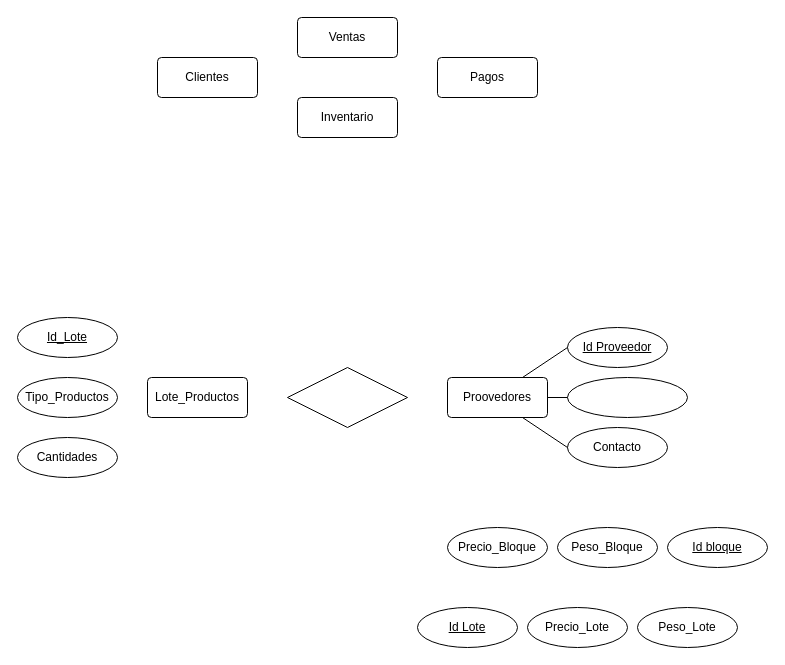
The diagram is 785 pixels wide and 665 high, and some of its shapes have lost their labels. Each missing label, with the box of its shape:
Nombre_Proveedor: (566, 376, 688, 418)
Proveen: (286, 366, 408, 428)
